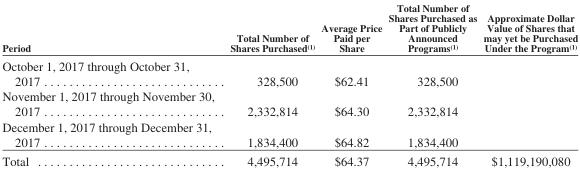table: (1, 1, 577, 167)
table column: (1, 1, 221, 167), (479, 1, 577, 167), (221, 1, 317, 167), (384, 1, 479, 167), (317, 1, 384, 167)
table column header: (1, 1, 577, 55)
table row: (1, 1, 577, 55), (1, 55, 577, 88), (1, 118, 577, 150), (1, 88, 577, 118), (1, 150, 577, 167)
